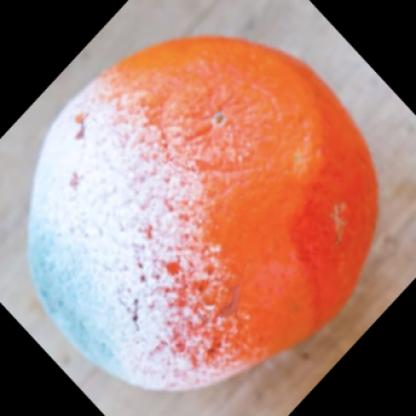rotten: (28, 37, 380, 392)
